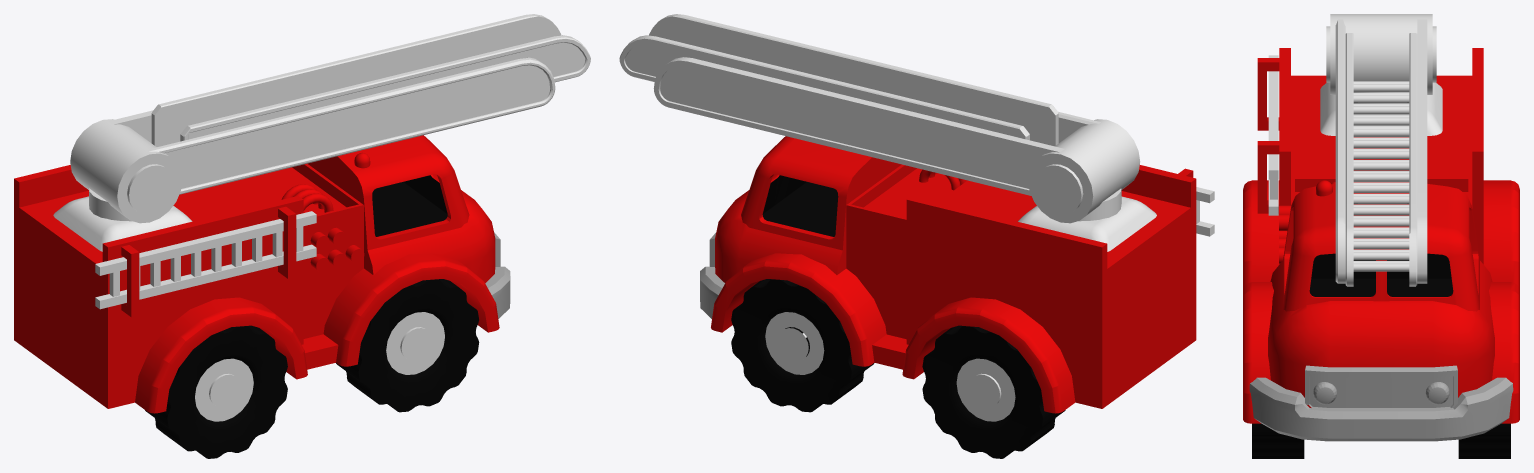
Rendered from Fire Truck.fbx.
3 renders of one model, left to right at view 1: azimuth 30°, elevation 25°; view 2: azimuth 150°, elevation 25°; view 3: azimuth 270°, elevation 25°, orthographic. The views are drawn at different scales.
Parts seen in each view (by area): view 1: polySurface14, polySurface12, polySurface13, polySurface18, polySurface19, polySurface11, polySurface15, pCylinder5, pCylinder27, pCylinder28, pCube17, pCube23 (+4 smaller); view 2: polySurface14, polySurface12, polySurface13, polySurface21, polySurface20, polySurface11, polySurface15, pCylinder5, pCylinder23, pCylinder26, pCube17, pCube22 (+1 smaller); view 3: polySurface15, polySurface14, polySurface13, polySurface11, polySurface12, pCylinder5, pCylinder26, pCylinder27, pCylinder23, pCylinder28, polySurface22, pCube17 (+5 smaller).
Part boxes in pixels (<box>): polySurface14: <box>14,163,363,408</box>; polySurface12: <box>108,57,555,194</box>; polySurface13: <box>151,14,590,146</box>; polySurface18: <box>145,325,287,458</box>; polySurface19: <box>336,279,479,412</box>; polySurface11: <box>307,135,469,266</box>; polySurface15: <box>364,174,510,318</box>; pCylinder5: <box>70,119,182,223</box>; pCylinder27: <box>323,253,499,366</box>; pCylinder28: <box>135,297,307,413</box>; pCube17: <box>53,196,192,251</box>; pCube23: <box>95,211,316,275</box>; polySurface14: <box>846,164,1196,408</box>; polySurface12: <box>653,57,1100,195</box>; polySurface13: <box>619,14,1058,146</box>; polySurface21: <box>922,325,1065,458</box>; polySurface20: <box>731,279,874,412</box>; polySurface11: <box>741,136,901,266</box>; polySurface15: <box>700,174,846,318</box>; pCylinder5: <box>1028,119,1140,223</box>; pCylinder23: <box>711,253,886,366</box>; pCylinder26: <box>902,297,1075,413</box>; pCube17: <box>1018,196,1156,251</box>; pCube22: <box>872,334,908,369</box>; polySurface15: <box>1249,261,1513,441</box>; polySurface14: <box>1279,48,1483,264</box>; polySurface13: <box>1345,33,1417,286</box>; polySurface11: <box>1283,182,1479,311</box>; polySurface12: <box>1335,19,1427,283</box>; pCylinder5: <box>1326,14,1436,94</box>; pCylinder26: <box>1483,180,1519,290</box>; pCylinder27: <box>1243,282,1273,423</box>; pCylinder23: <box>1489,282,1519,423</box>; pCylinder28: <box>1243,180,1279,290</box>; polySurface22: <box>1257,58,1279,213</box>; pCube17: <box>1320,82,1442,135</box>.
Bounding box in the file's own units: 32.35 × 17.26 × 13.55.
